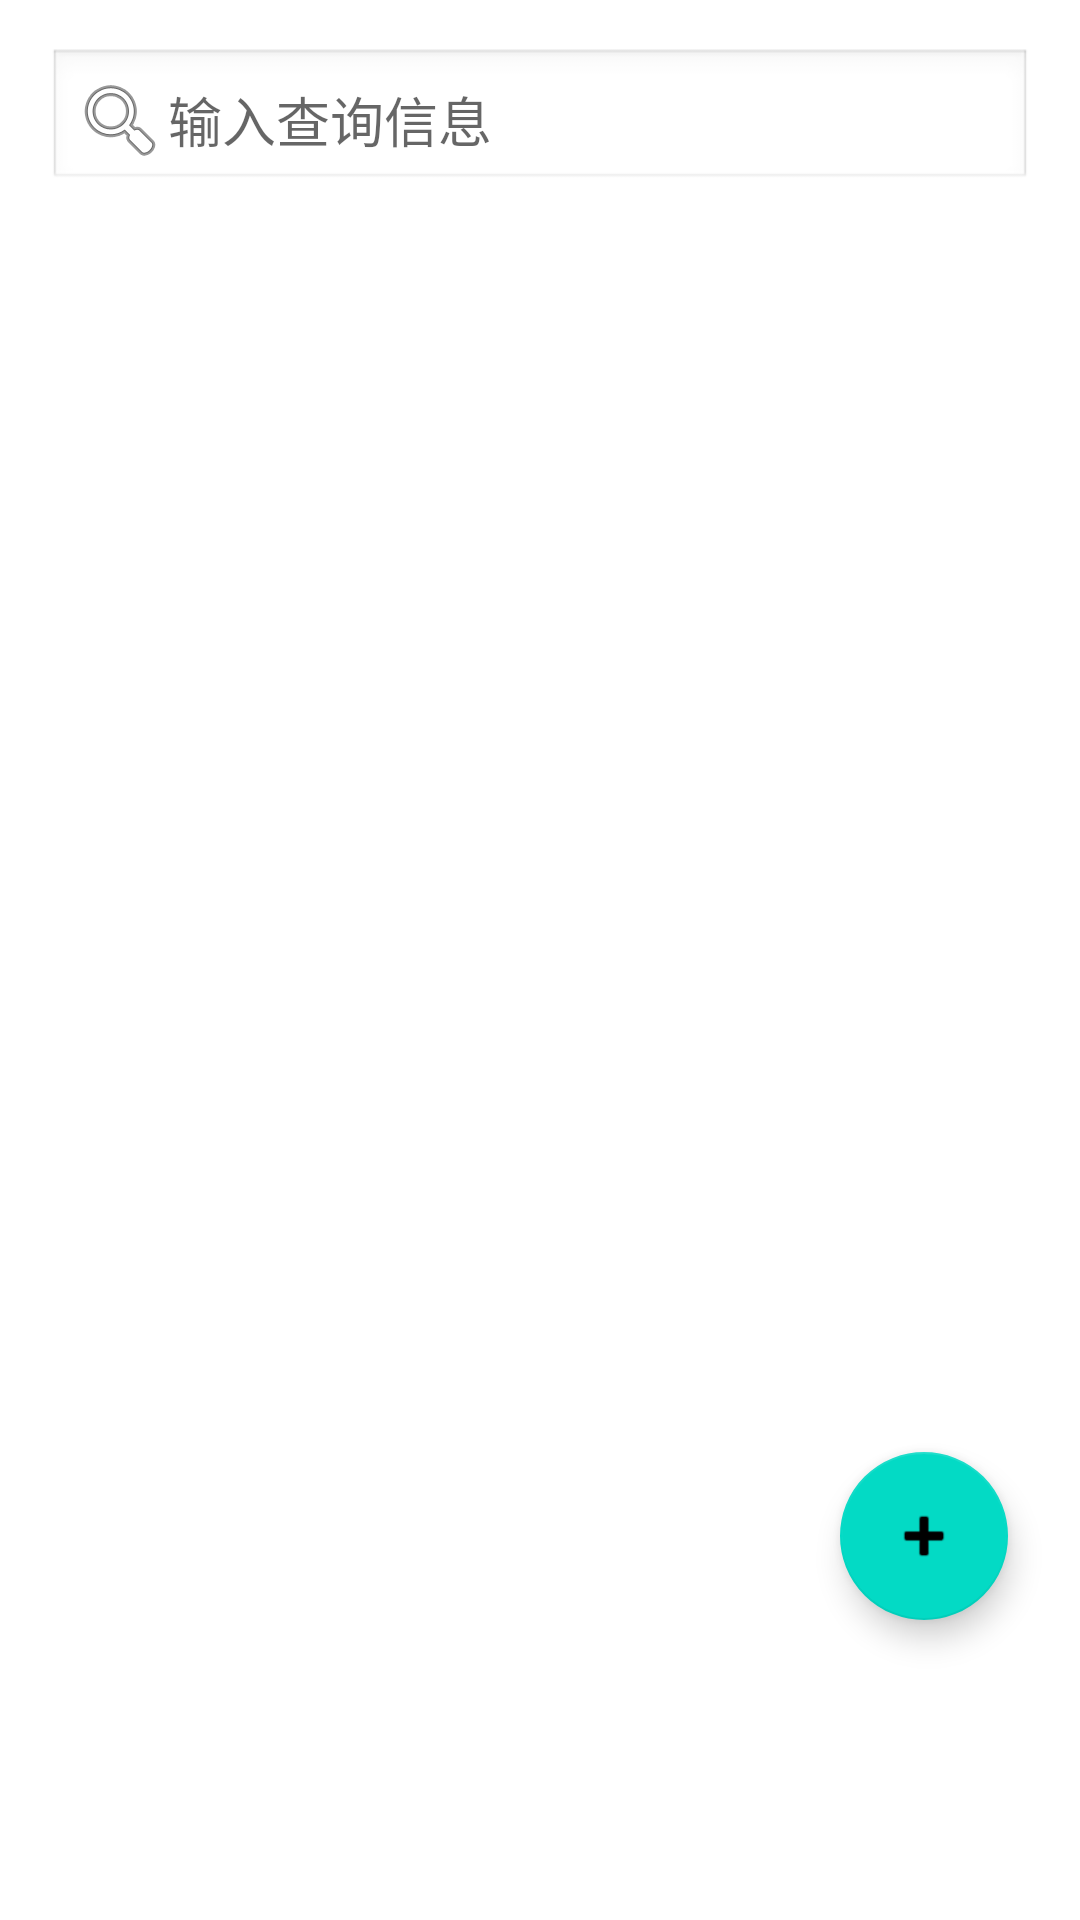

Point at icon controls on the screen. Image size 1080×1920, points as [x,y].
添加车牌: [924,1536]
